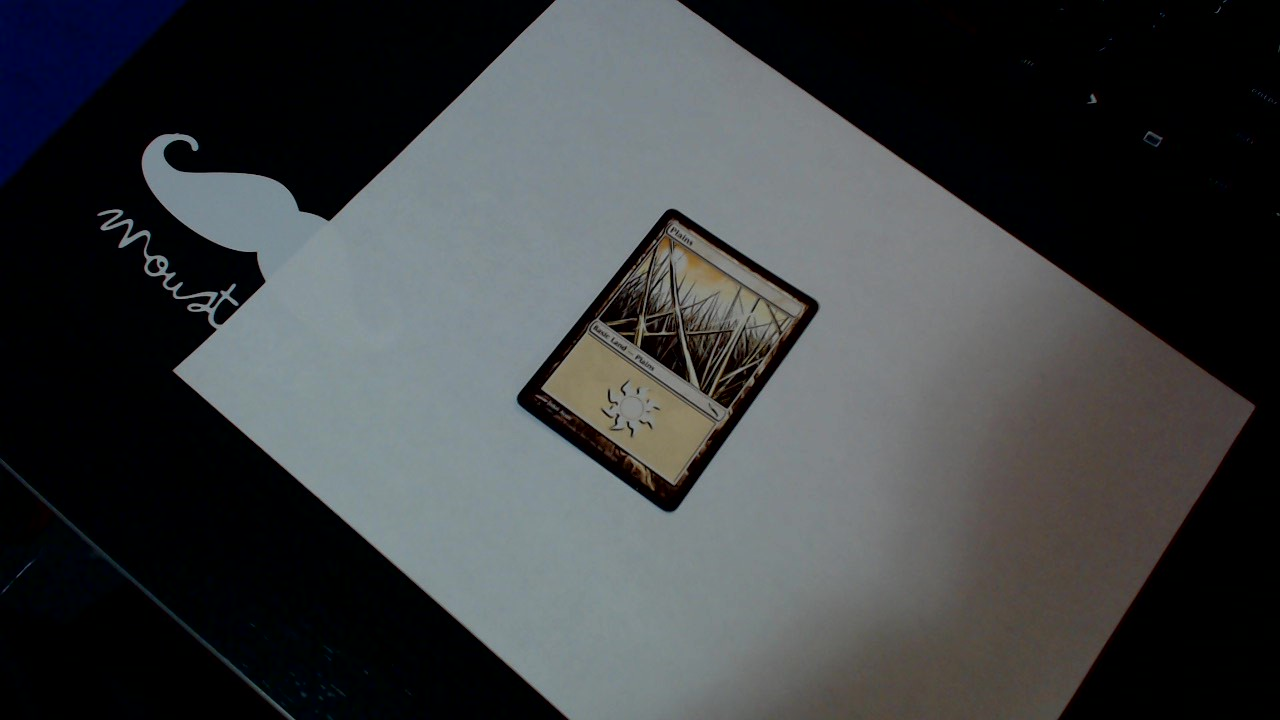MTG Card: (516, 195, 823, 523)
